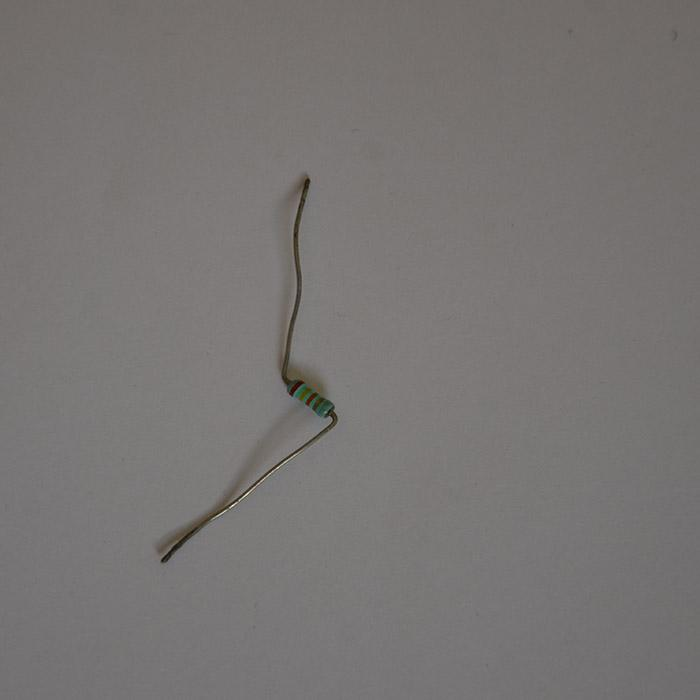resistor: (286, 378, 336, 419)
